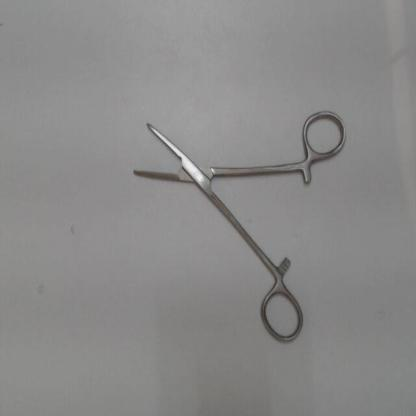Mayo Needle Holder: (122, 103, 350, 349)
